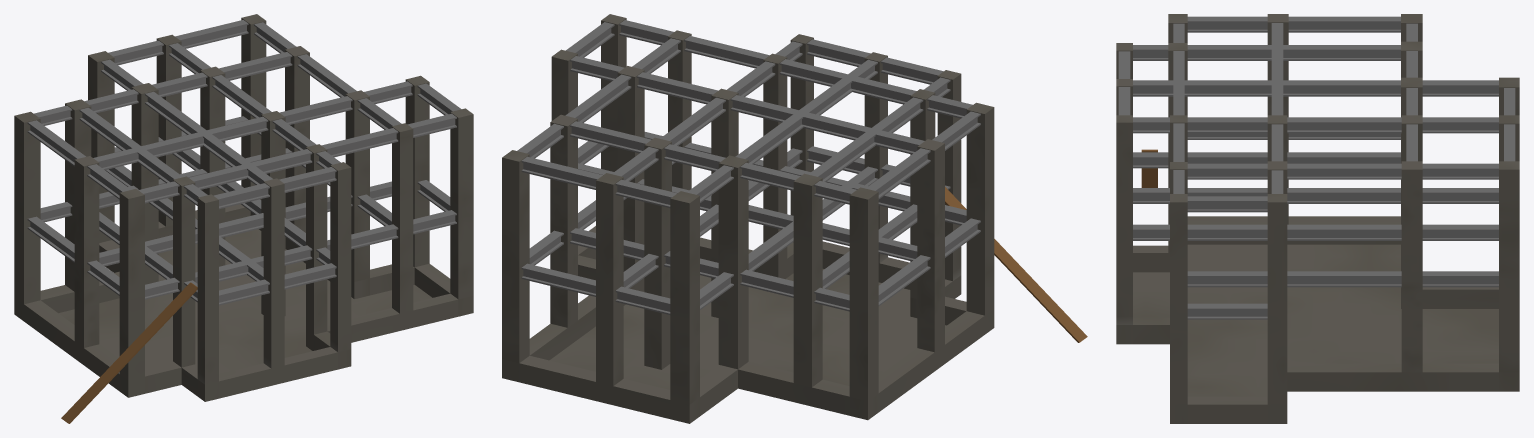
File: fundamenty.fbx
3 renders of one model, left to right at view 1: azimuth 30°, elevation 25°; view 2: azimuth 150°, elevation 25°; view 3: azimuth 270°, elevation 25°, orthographic. The views are drawn at different scales.
Parts seen in each view (by area): view 1: slupy, belki2, fundamenty, belki1, podloga, deska; view 2: slupy, belki2, fundamenty, belki1, podloga, deska; view 3: belki2, slupy, podloga, belki1, fundamenty, deska.
Part boxes in pixels (left/top/right/bottom): slupy: left=14, top=14, right=473, bottom=384; belki2: left=27, top=20, right=461, bottom=209; fundamenty: left=14, top=204, right=473, bottom=401; belki1: left=27, top=116, right=456, bottom=305; podloga: left=58, top=229, right=432, bottom=373; deska: left=61, top=282, right=197, bottom=423; slupy: left=502, top=14, right=994, bottom=404; belki2: left=517, top=20, right=980, bottom=207; fundamenty: left=502, top=226, right=994, bottom=423; belki1: left=521, top=132, right=980, bottom=314; podloga: left=549, top=269, right=946, bottom=389; deska: left=945, top=187, right=1087, bottom=342; belki2: left=1118, top=16, right=1515, bottom=212; slupy: left=1116, top=14, right=1519, bottom=404; podloga: left=1133, top=244, right=1498, bottom=396; belki1: left=1133, top=133, right=1498, bottom=319; fundamenty: left=1116, top=216, right=1519, bottom=423; deska: left=1141, top=149, right=1157, bottom=187.
Bounding box in the file's own units: 2972 × 3965 × 1802.
